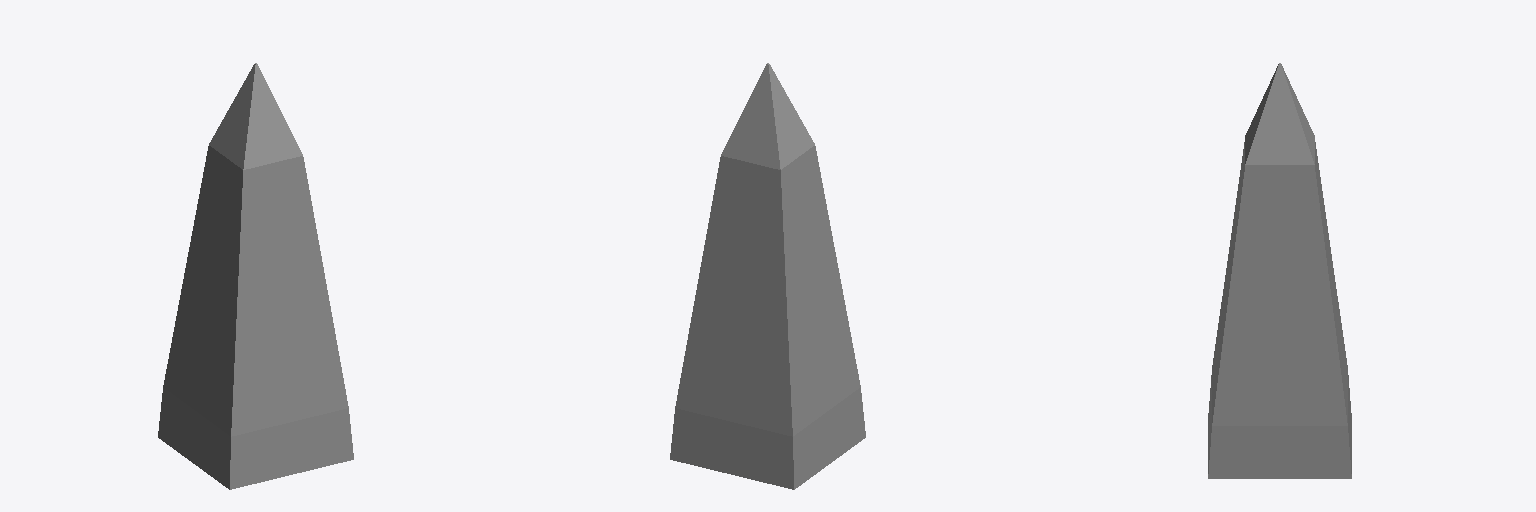
Rendered from obelisk.obj.
3 renders of one model, left to right at view 1: azimuth 30°, elevation 25°; view 2: azimuth 150°, elevation 25°; view 3: azimuth 270°, elevation 25°, orthographic.
Visible parts, largest first — view 1: Cube.001; view 2: Cube.001; view 3: Cube.001.
Part boxes in pixels (x1,y1,x2,y2): Cube.001: (158,63,353,489); Cube.001: (670,63,865,489); Cube.001: (1208,63,1351,478).
Size of the model in its own units: 1 by 2.96 by 1.